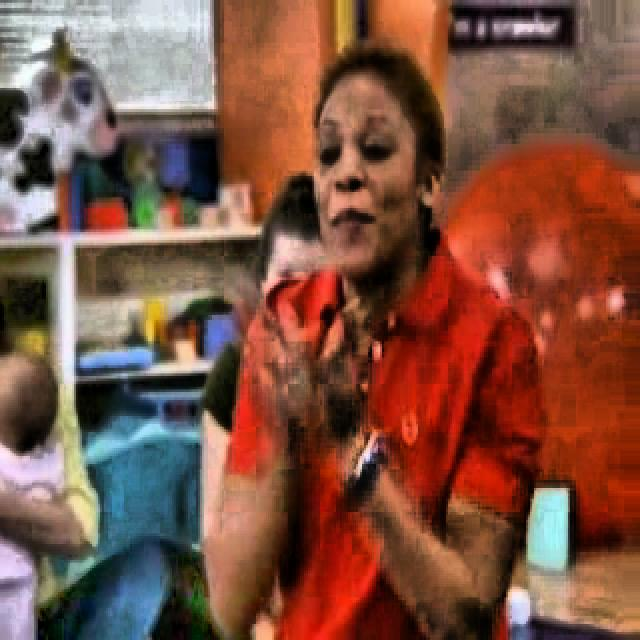F: (205, 49, 507, 640)
